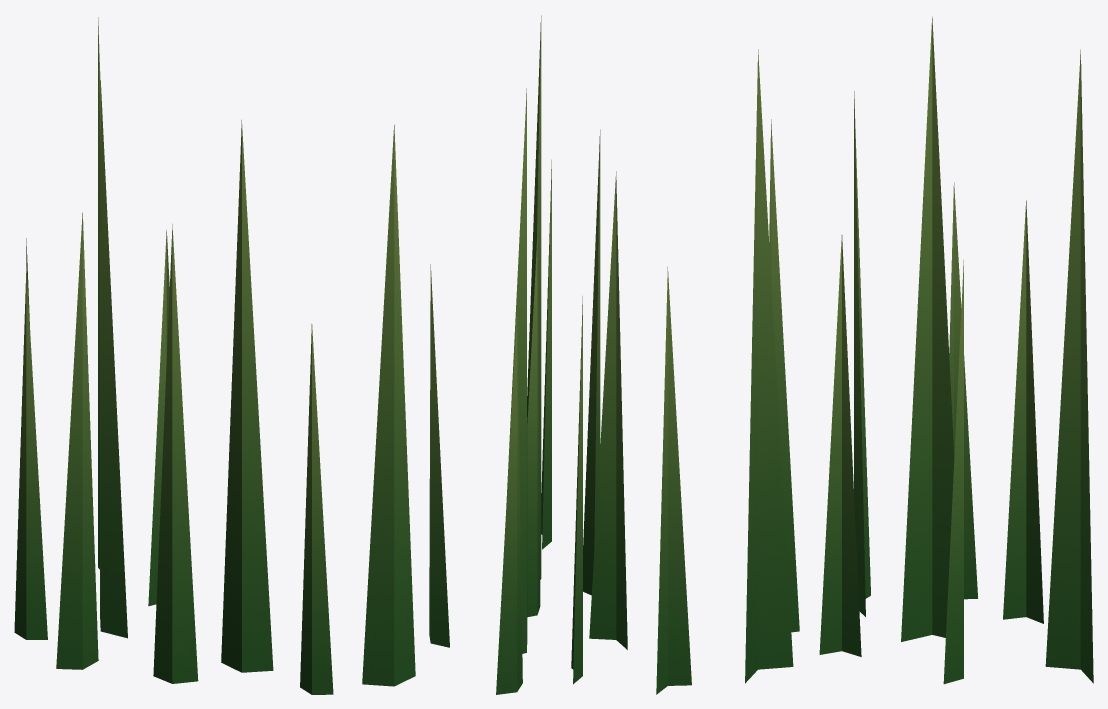
The model's file is Grass_1.fbx.
3 views of the same model, side by side, from view 1: azimuth 30°, elevation 25°; view 2: azimuth 150°, elevation 25°; view 3: azimuth 270°, elevation 25° (orthographic). The views are drawn at different scales.
Visible parts, largest first — view 1: polySurface545; view 2: polySurface545; view 3: polySurface545.
Part boxes in pixels (x1,y1,x2,y2): polySurface545: [14, 17, 333, 694]; polySurface545: [362, 15, 627, 694]; polySurface545: [656, 16, 1093, 694].
Bounding box in the file's own units: 28.37 × 82.68 × 52.78.
